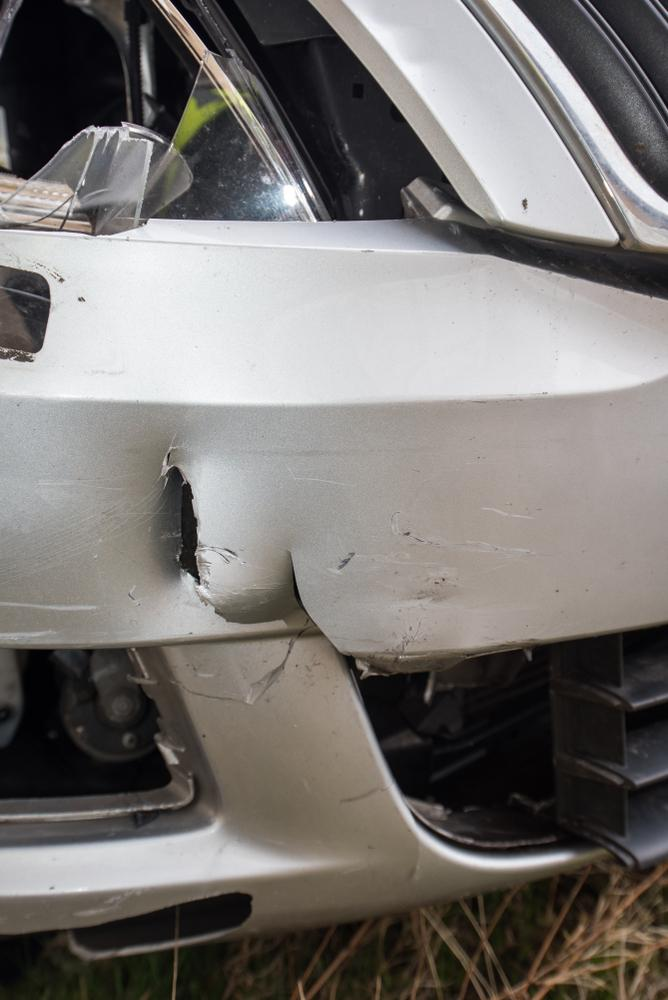crack: (162, 444, 353, 706)
scratch: (344, 501, 544, 660)
